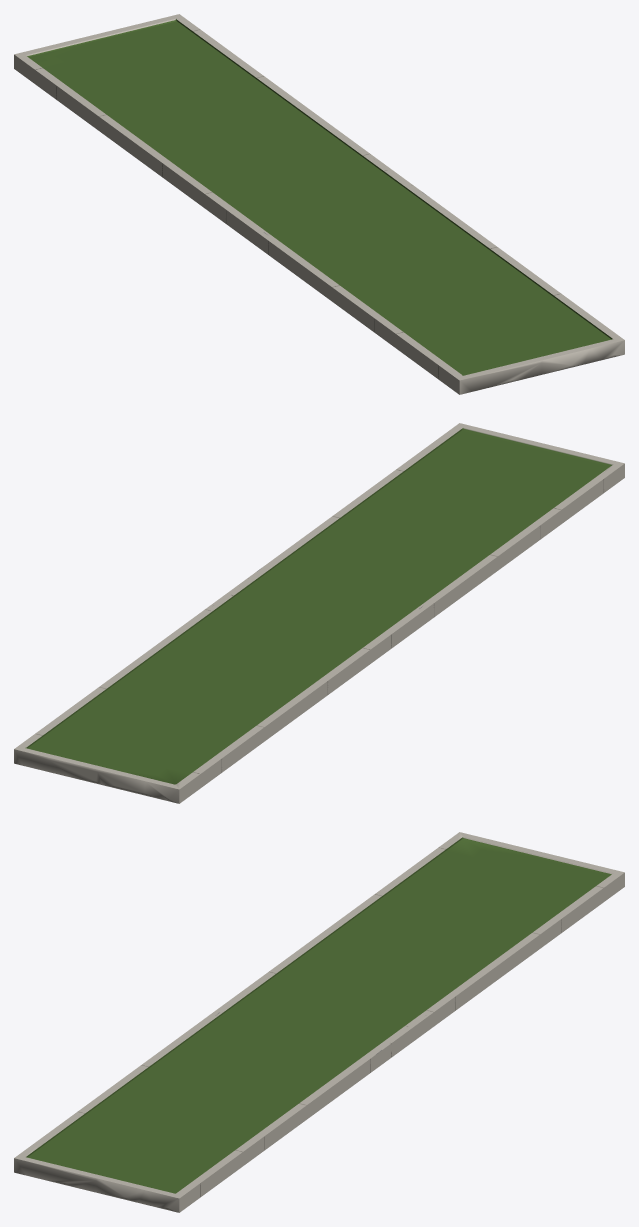
The model's file is bon_co_234797330.glb.
The picture shows the model from 3 angles, top to bottom: view 1: azimuth 30°, elevation 25°; view 2: azimuth 150°, elevation 25°; view 3: azimuth 330°, elevation 25°; orthographic projection.
Parts seen in each view (by area): view 1: drawing; view 2: drawing; view 3: drawing.
Part boxes in pixels (x1,y1,x2,y2): drawing: (14,14,624,394); drawing: (14,423,624,803); drawing: (14,832,624,1212).
Bounding box in the file's own units: 5.4 × 0.45 × 25.19.
Materials: 2 (2 with a texture image).
